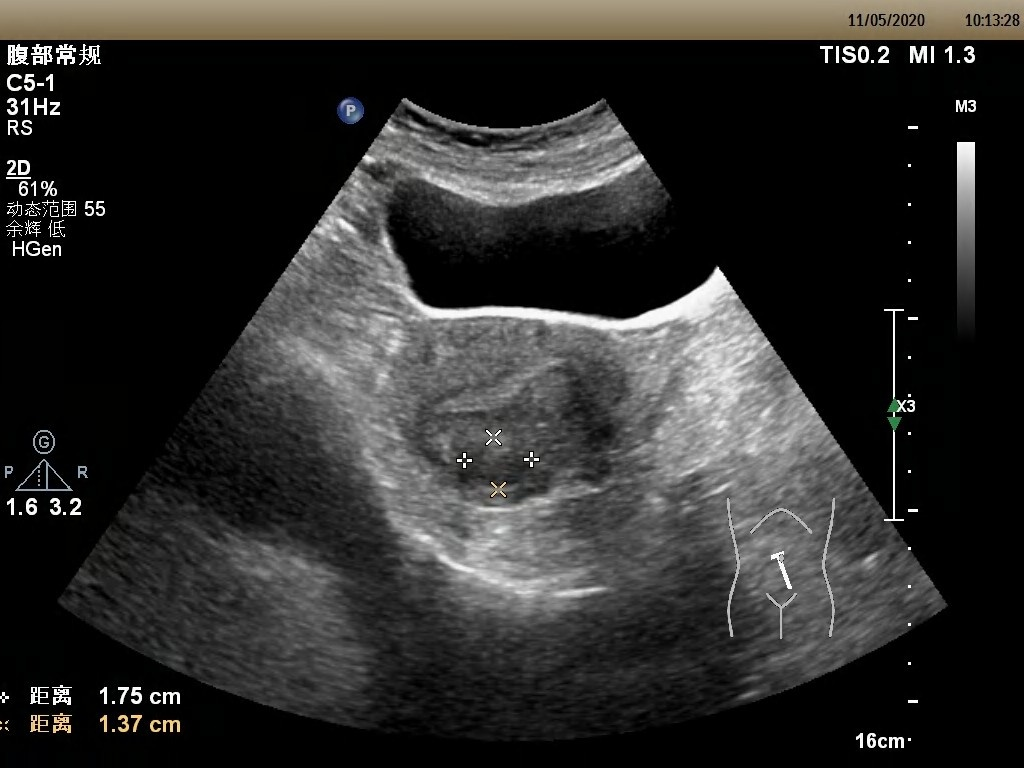肌瘤: (461, 440, 532, 488)
